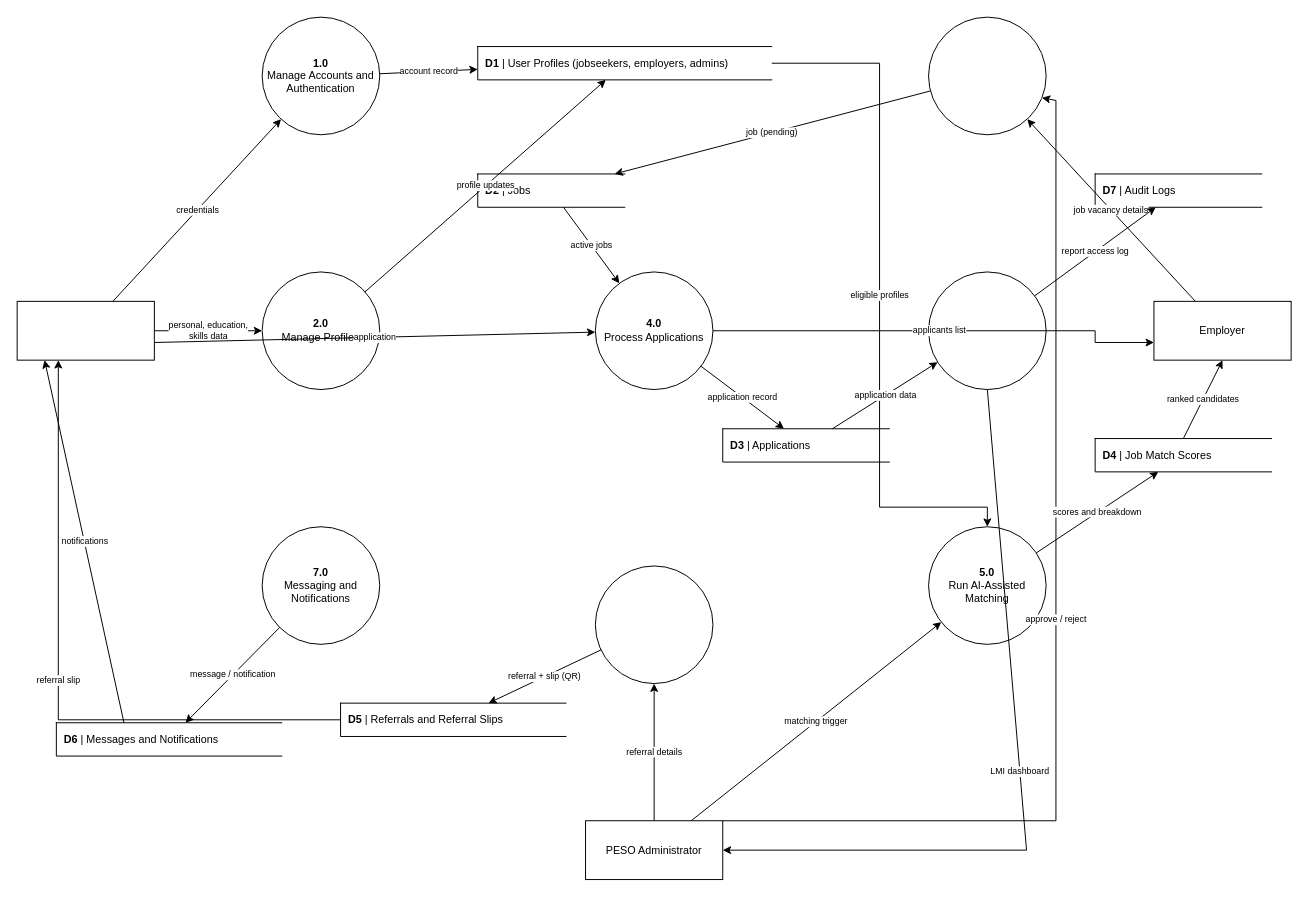
This 1308x897 diagram has some shape labels left out. Here are the shapes that lost their labels. From the top down, the centre of each, then its label:
(987,75): 3.0 Manage Job Postings
(85,330): Job Seeker
(987,330): 8.0 Generate LMI Reports
(653,624): 6.0 Manage Referrals
